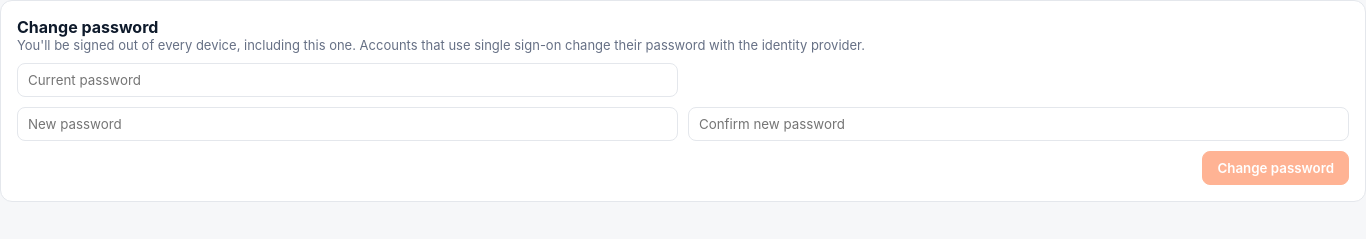
Account › keeps the user signed in and explains when the change is refused
This screenshot has width=1366, height=239.
Step 1. Type "wrong" into the password field with placeholder "Current password" → (348, 80), box left=17, top=63, right=678, bottom=97
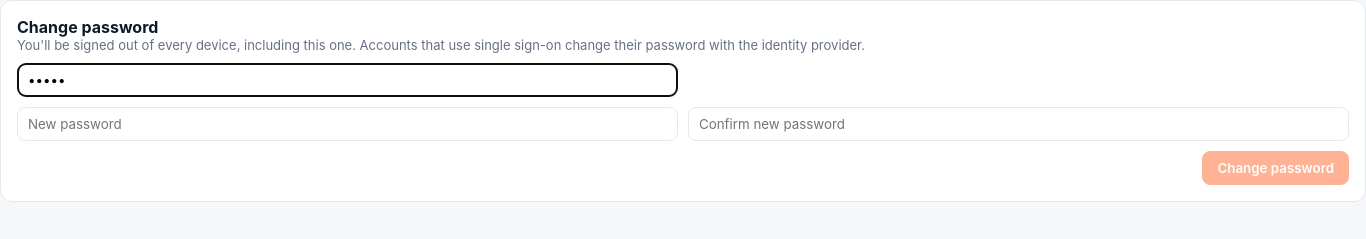
Step 2. Type "N3w-Passw0rd!long" into the password field with placeholder "New password" → (348, 124), box left=17, top=107, right=678, bottom=141
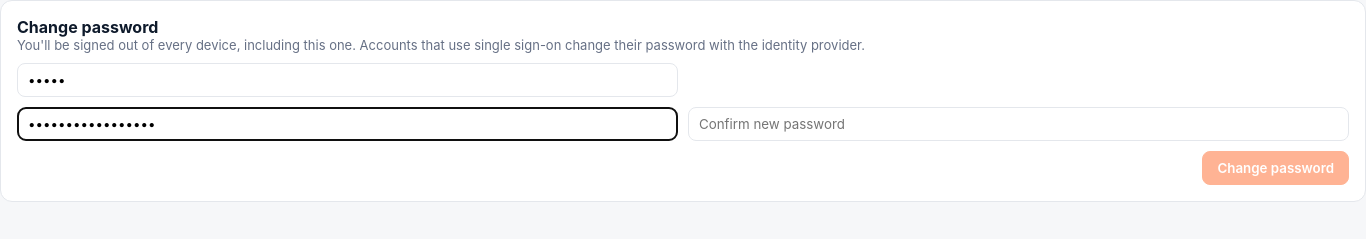
Step 3. Type "N3w-Passw0rd!long" into the password field with placeholder "Confirm new password" → (1018, 124), box left=688, top=107, right=1349, bottom=141
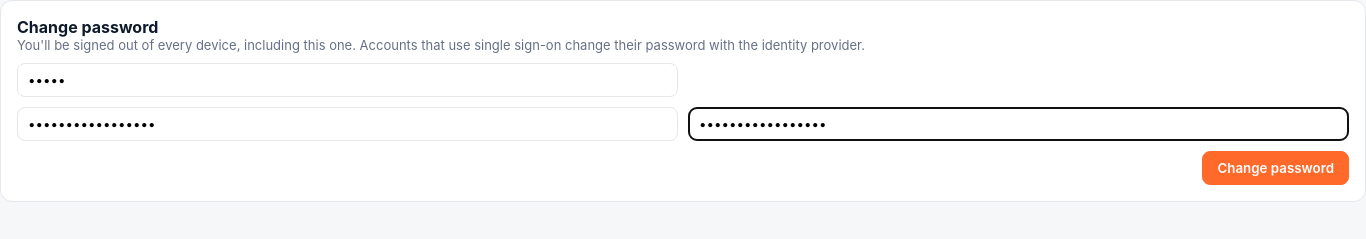
Step 4. Click the button "Change password" → (1276, 168), box left=1202, top=151, right=1349, bottom=185
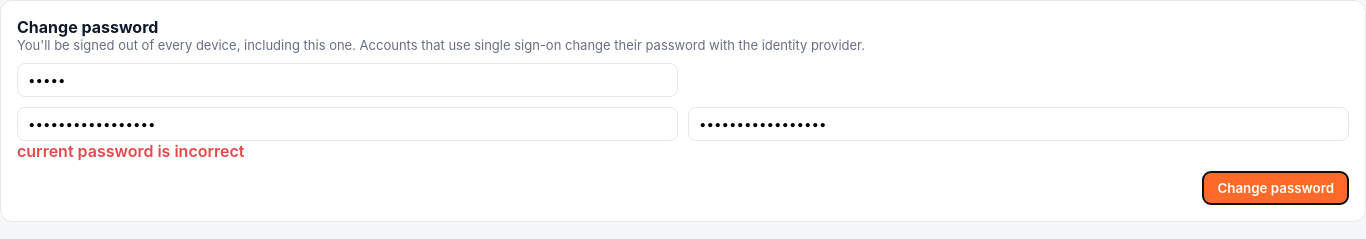
Expected: the text "current password is incorrect" is shown, left=17, top=141, right=244, bottom=161
